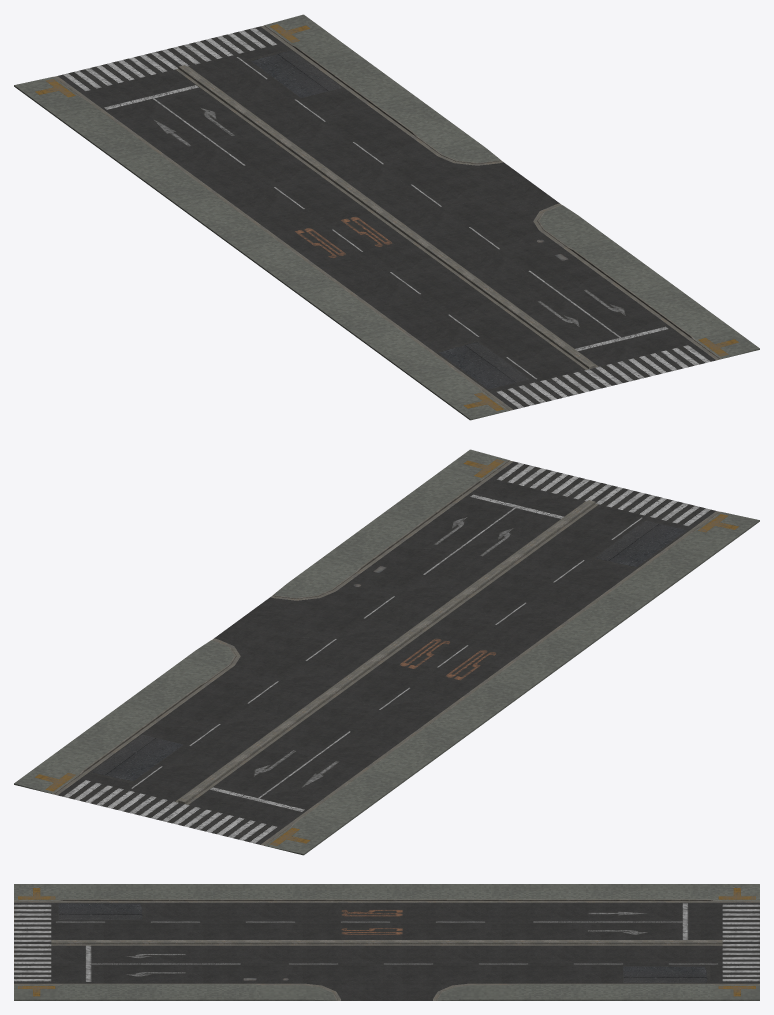
The model's file is jctlowRoad22mC_e.fbx.
3 views of the same model, one above another, from view 1: azimuth 30°, elevation 25°; view 2: azimuth 150°, elevation 25°; view 3: azimuth 270°, elevation 25° (orthographic). The views are drawn at different scales.
Parts seen in each view (by area): view 1: jctlowRoad22mC_e; view 2: jctlowRoad22mC_e; view 3: jctlowRoad22mC_e.
Boxes of the visible parts, box(x1,y1,x2,y2) form: jctlowRoad22mC_e: box(14, 14, 759, 420); jctlowRoad22mC_e: box(14, 449, 759, 855); jctlowRoad22mC_e: box(14, 884, 759, 1000).
Bounding box in the file's own units: 2200 × 15 × 6000.
Materials: 4 (4 with a texture image).
